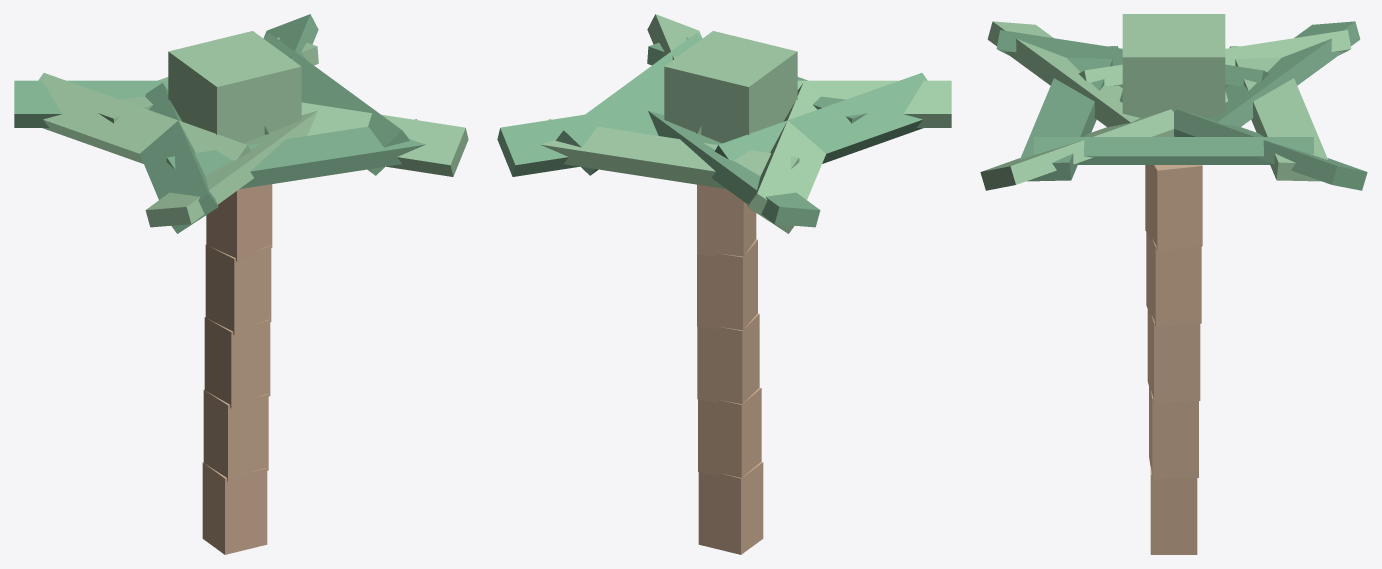
File: tree-palmdetailedtall.gltf
3 renders of one model, left to right at view 1: azimuth 30°, elevation 25°; view 2: azimuth 150°, elevation 25°; view 3: azimuth 270°, elevation 25°, orthographic. The views are drawn at different scales.
Visible parts, largest first — view 1: LeafLight, Wood, TreeLeaf; view 2: LeafLight, Wood, TreeLeaf; view 3: LeafLight, Wood, TreeLeaf.
Part boxes in pixels (box(x1,y1,x2,y2)): LeafLight: box(38, 31, 468, 227); Wood: box(202, 184, 272, 554); TreeLeaf: box(14, 14, 425, 233); LeafLight: box(540, 14, 951, 233); Wood: box(697, 184, 763, 554); TreeLeaf: box(497, 33, 927, 227); LeafLight: box(980, 14, 1351, 190); Wood: box(1145, 165, 1202, 554); TreeLeaf: box(996, 21, 1367, 190).
Bounding box in the file's own units: 4.08 × 6 × 4.15.
